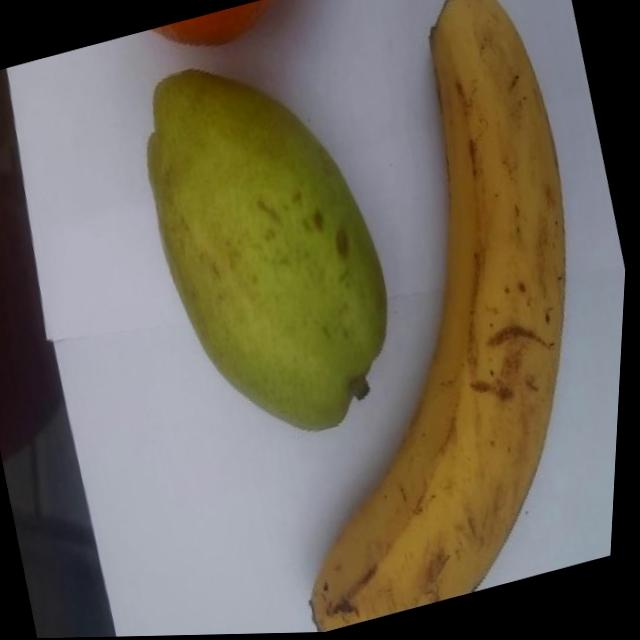Banana: (171, 0, 640, 637)
Orange: (154, 0, 279, 59)
